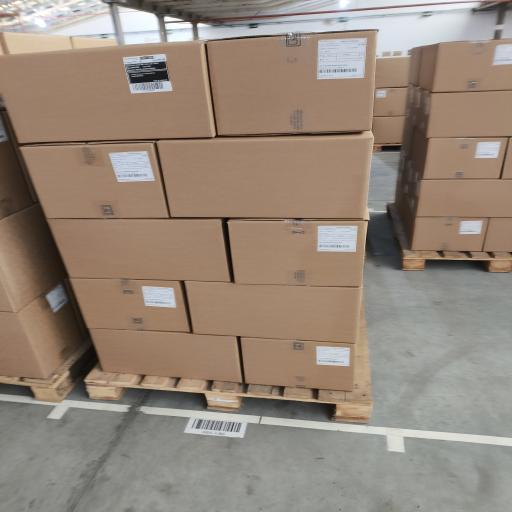pallet: (85, 308, 372, 423), (387, 202, 511, 272), (0, 341, 97, 402), (373, 144, 401, 152)
